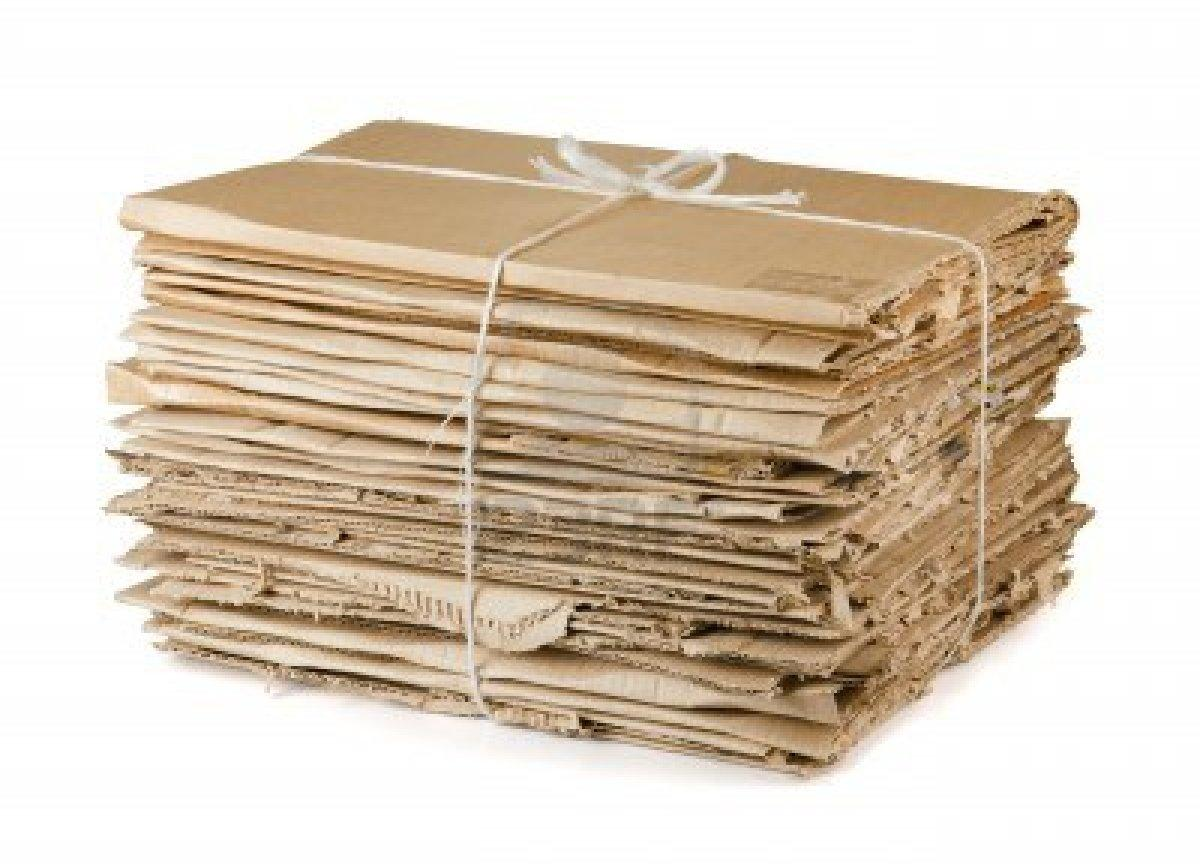plastic: (467, 263, 990, 778), (109, 235, 478, 712), (506, 127, 1045, 353), (119, 90, 605, 293), (991, 284, 1085, 562), (579, 142, 675, 175)
